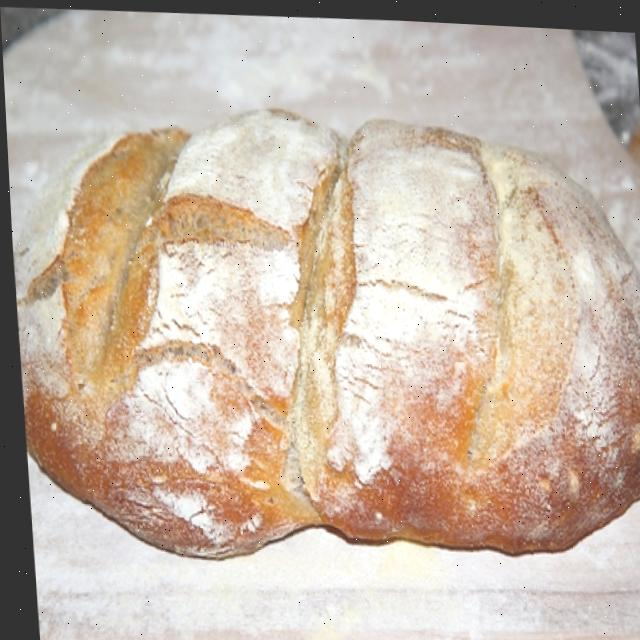面包点心: (2, 58, 640, 585)
